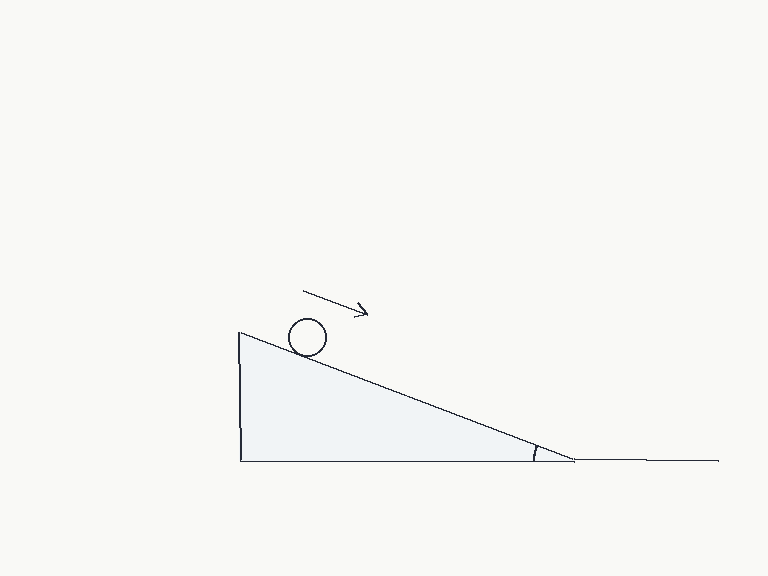ball: (286, 316, 328, 358)
ramp: (238, 330, 576, 462)
